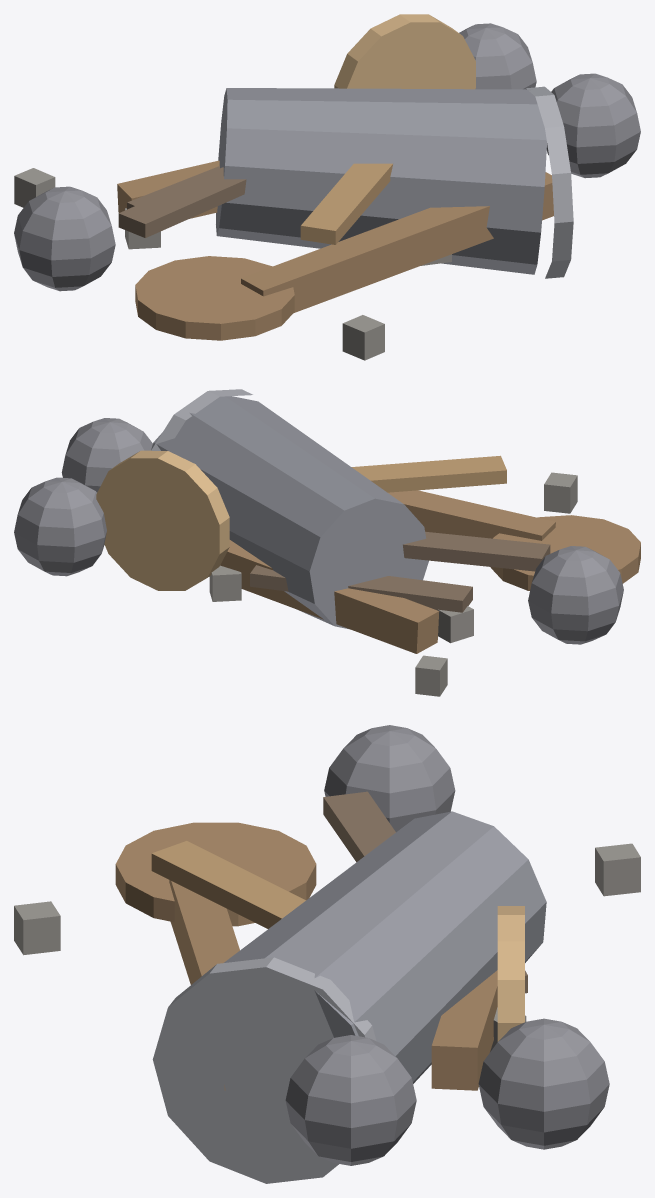
Rendered from ws_ruin_siege_mortar.glb.
3 renders of one model, top to bottom at view 1: azimuth 30°, elevation 25°; view 2: azimuth 150°, elevation 25°; view 3: azimuth 270°, elevation 25°, orthographic. The views are drawn at different scales.
Visible parts, largest first — view 1: ws_ruin_siege_mortar; view 2: ws_ruin_siege_mortar; view 3: ws_ruin_siege_mortar.
Boxes of the visible parts, bbox=[...] form: ws_ruin_siege_mortar: bbox=[14, 14, 640, 360]; ws_ruin_siege_mortar: bbox=[14, 389, 640, 696]; ws_ruin_siege_mortar: bbox=[14, 725, 640, 1183].
Bounding box in the file's own units: 2.24 × 0.68 × 1.62.
